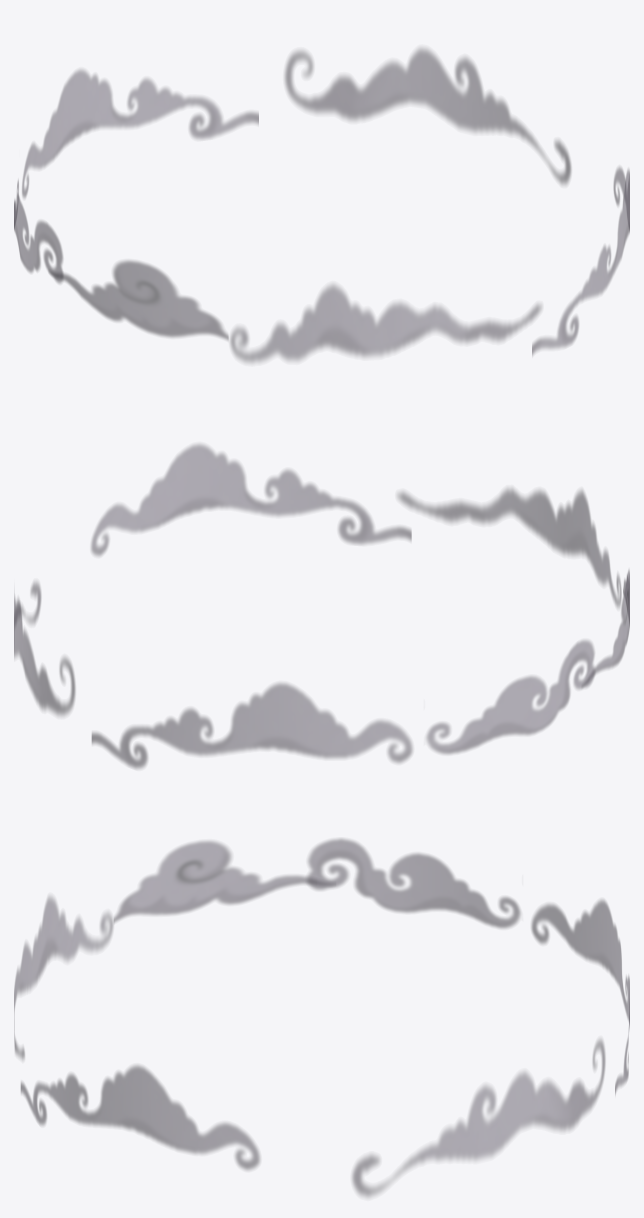
The model's file is Clouds05.glb.
3 views of the same model, one above another, from view 1: azimuth 30°, elevation 25°; view 2: azimuth 150°, elevation 25°; view 3: azimuth 270°, elevation 25° (orthographic).
Visible parts, largest first — view 1: Clouds05; view 2: Clouds05; view 3: Clouds05.
Part boxes in pixels (<box>): Clouds05: <box>14,47,629,363</box>; Clouds05: <box>14,444,629,768</box>; Clouds05: <box>14,838,629,1197</box>.
Size of the model in its own units: 131 by 32.13 by 131.
Materials: 1 (1 with a texture image).
